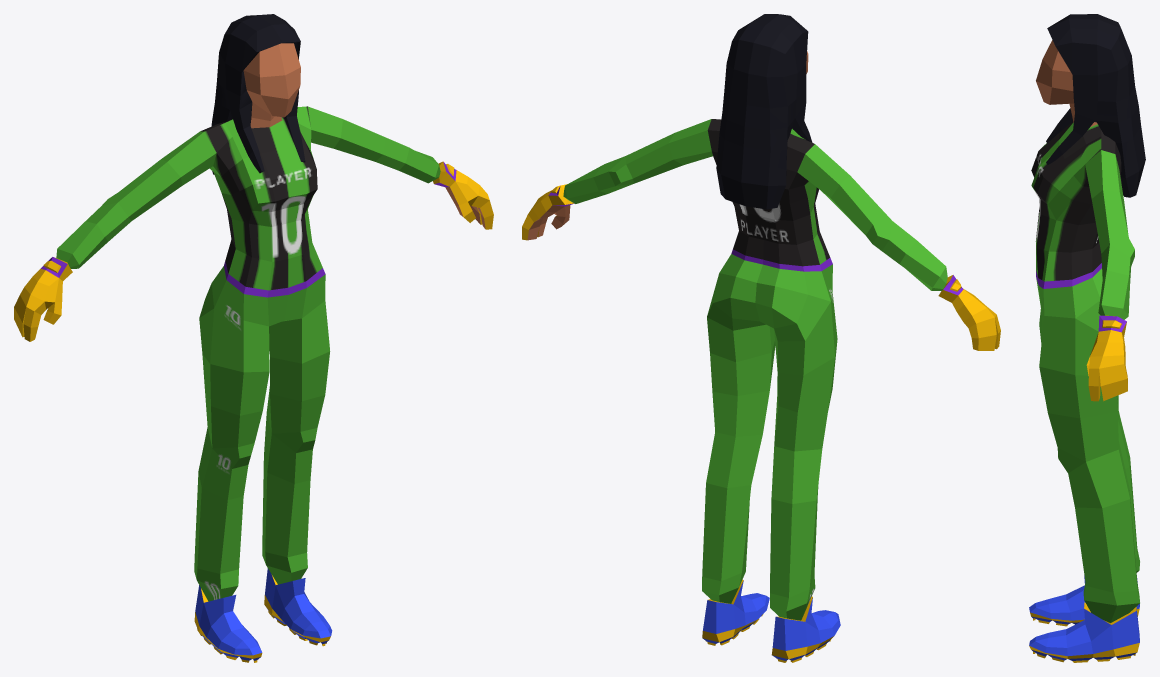
The model's file is SoccerWomanC.gltf.
The picture shows the model from 3 angles, left to right: view 1: azimuth 30°, elevation 25°; view 2: azimuth 150°, elevation 25°; view 3: azimuth 270°, elevation 25°; orthographic projection.
Visible parts, largest first — view 1: Soccer Woman C; view 2: Soccer Woman C; view 3: Soccer Woman C.
Part boxes in pixels (x1,y1,x2,y2): Soccer Woman C: (14,14,493,662); Soccer Woman C: (522,14,1000,662); Soccer Woman C: (1029,14,1145,662).
Bounding box in the file's own units: 1.26 × 1.6 × 0.2728.
1 material, 1 textured.
